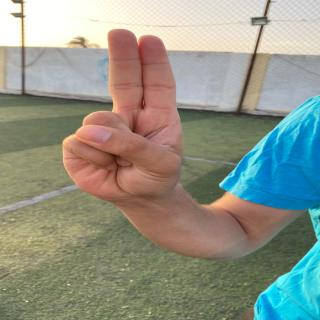TA: (41, 23, 215, 207)
